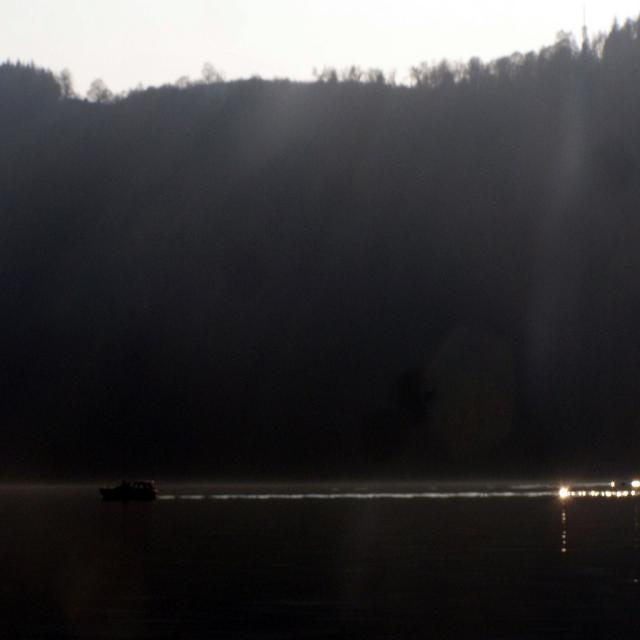Boat: (85, 463, 182, 529)
